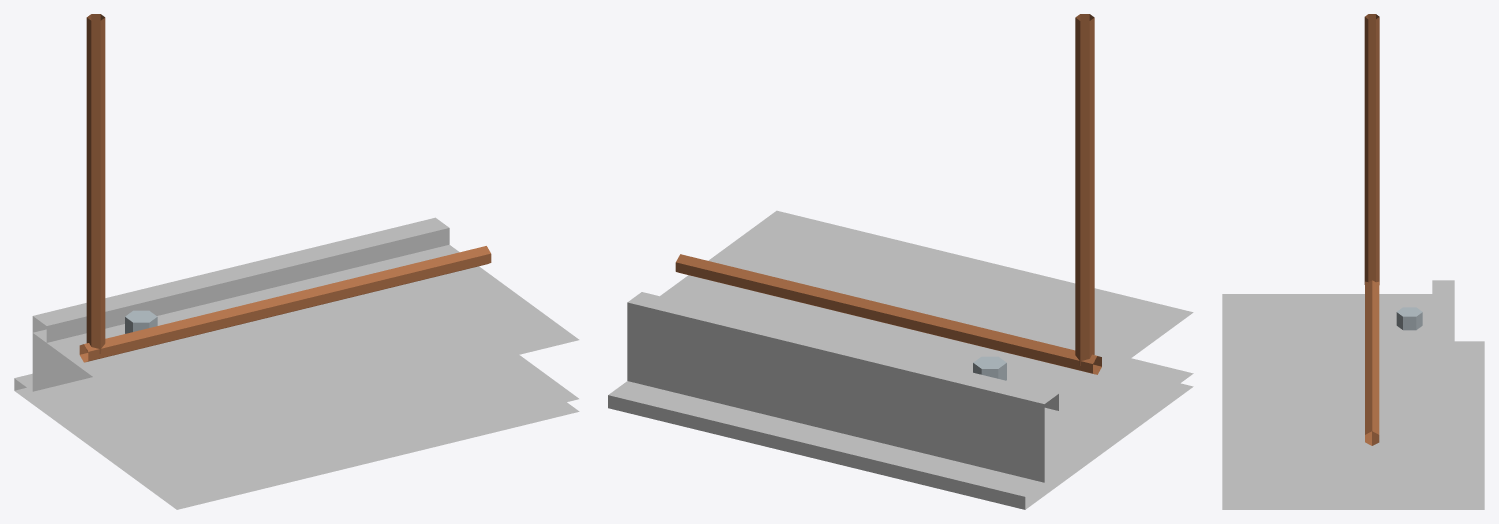
Rendered from cell_5.obj.
3 views of the same model, side by side, from view 1: azimuth 30°, elevation 25°; view 2: azimuth 150°, elevation 25°; view 3: azimuth 270°, elevation 25° (orthographic). The views are drawn at different scales.
Size of the model in its own units: 1 by 1 by 0.7.
